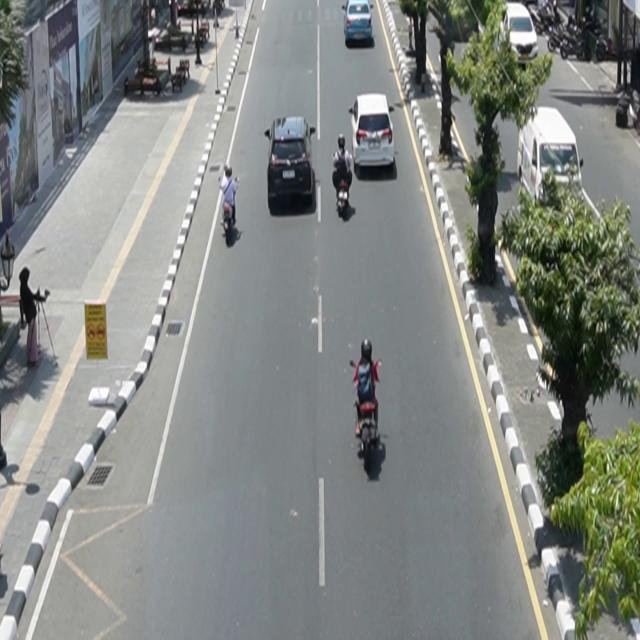car: (518, 106, 585, 209), (265, 116, 316, 205), (349, 94, 396, 171), (499, 2, 540, 68), (343, 1, 375, 45)
